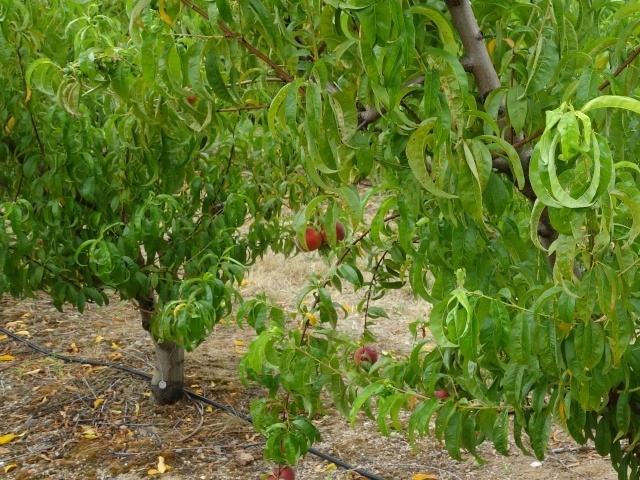peach: (291, 223, 324, 257), (351, 342, 382, 373), (316, 217, 348, 247), (265, 463, 297, 480)
